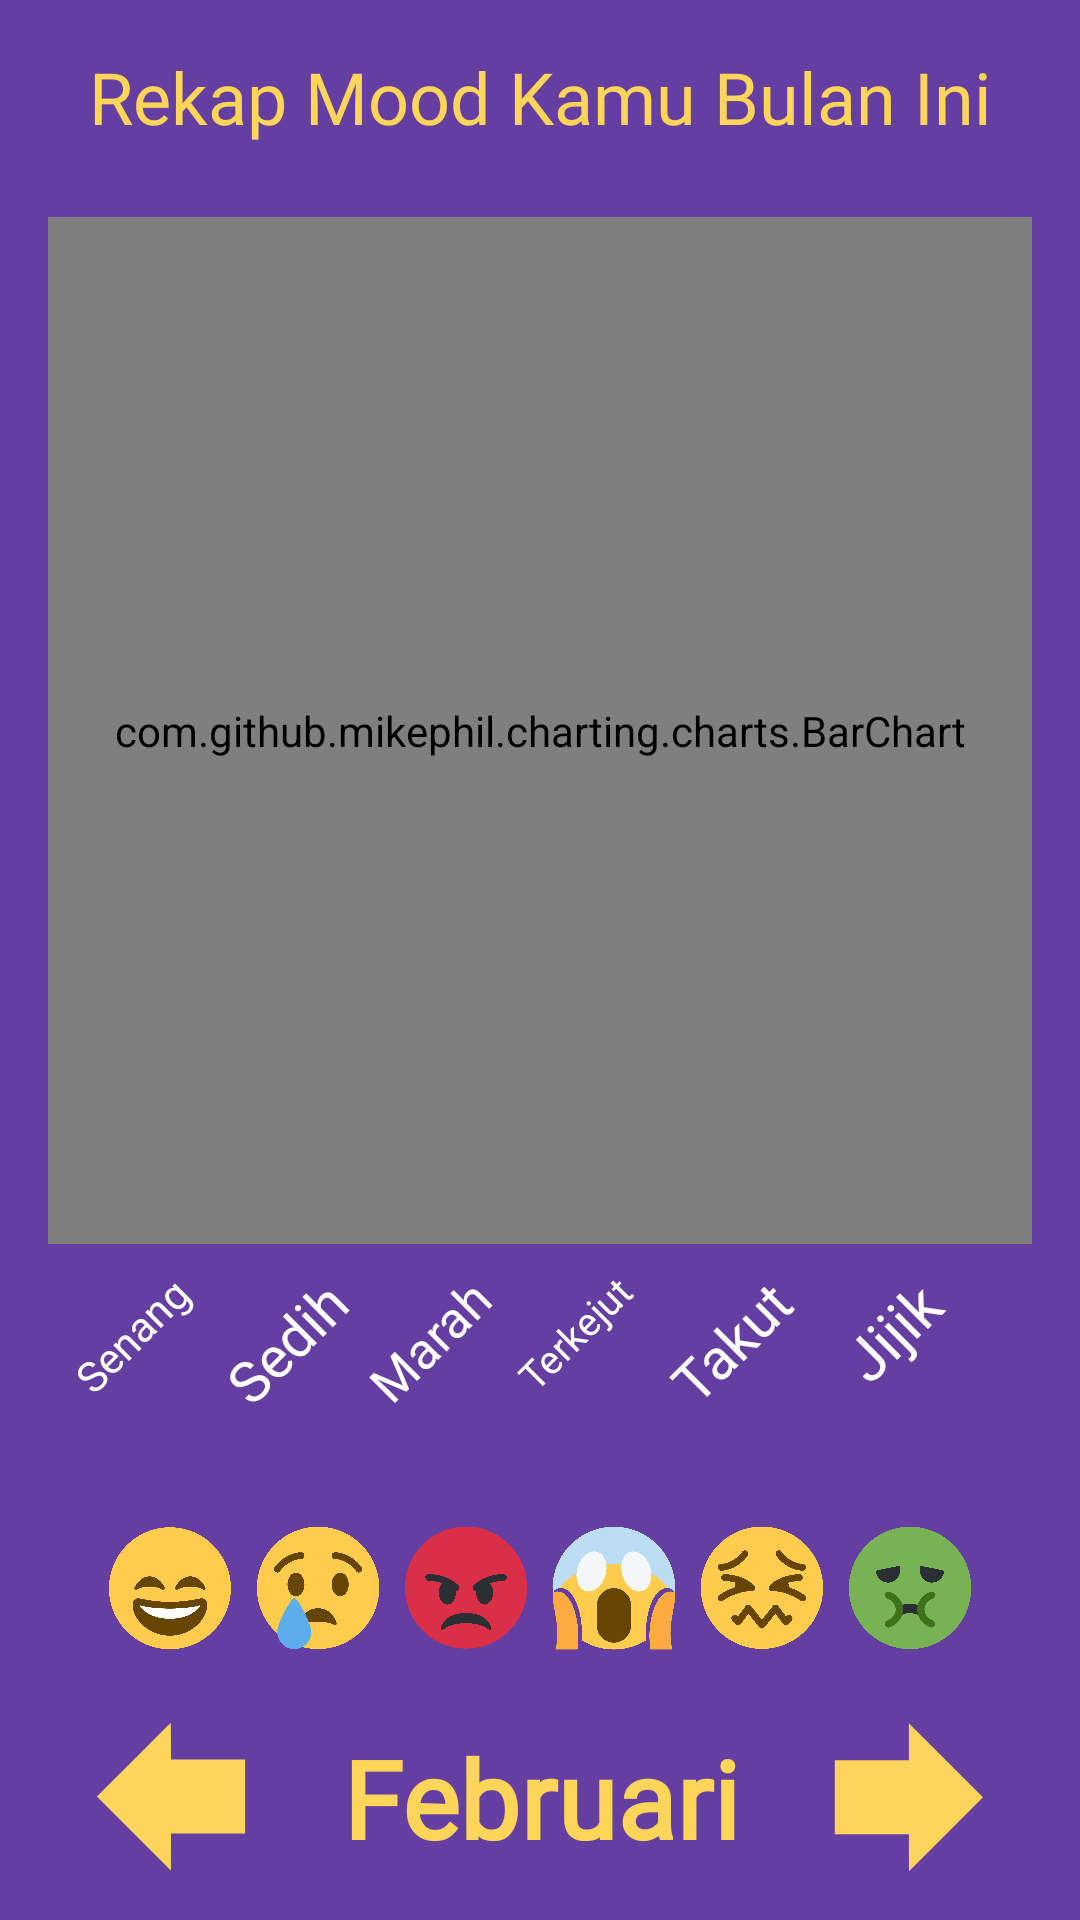

Where to tap for icons on this 1080px x 1920px app screen, as (x=x, y=y):
angry: (x=466, y=1588)
disgusting: (x=910, y=1588)
happy: (x=170, y=1588)
next: (x=908, y=1797)
previous: (x=171, y=1796)
sad: (x=318, y=1588)
shock: (x=613, y=1588)
